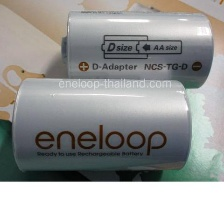battery: (8, 74, 194, 174), (56, 7, 216, 93)
